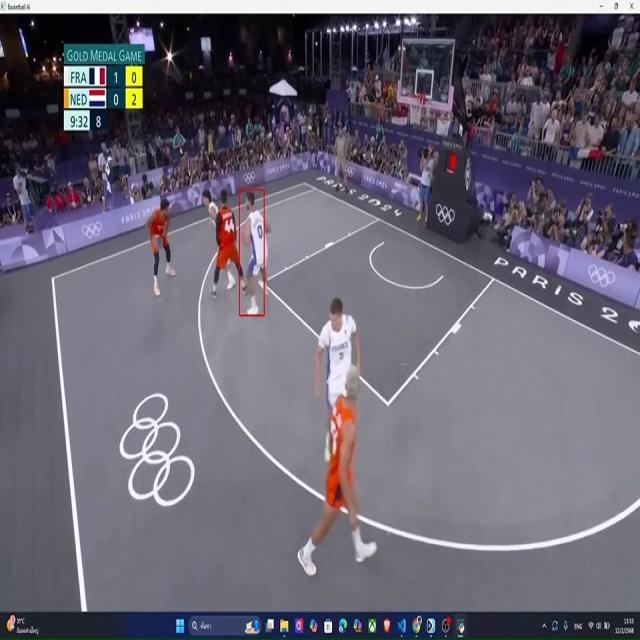hoop: (405, 89, 425, 128)
